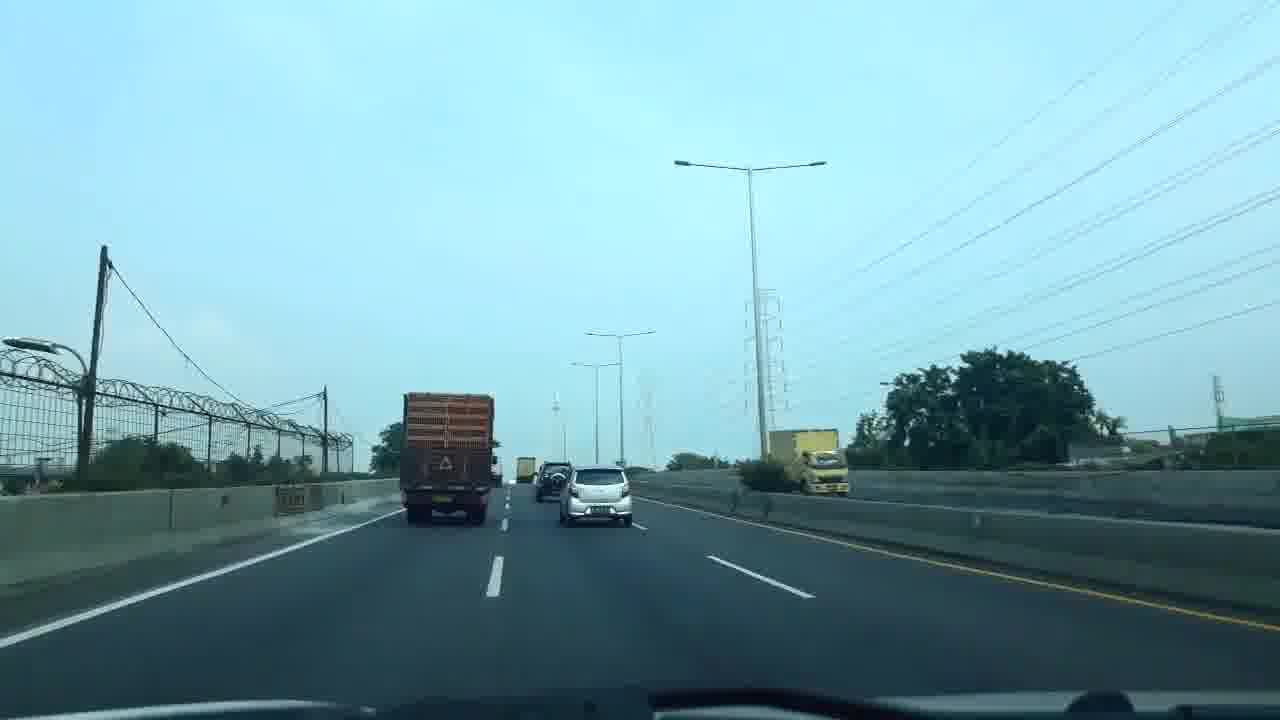plate_positive: (432, 495, 456, 503), (591, 506, 611, 514)
